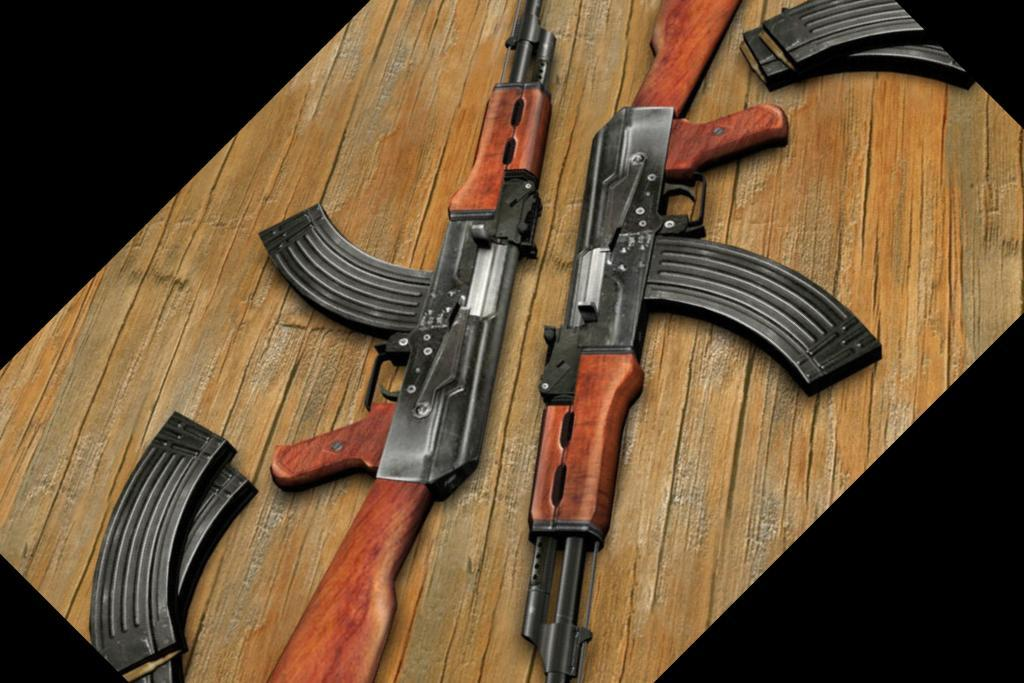larga: (518, 0, 884, 683), (259, 0, 558, 683)
